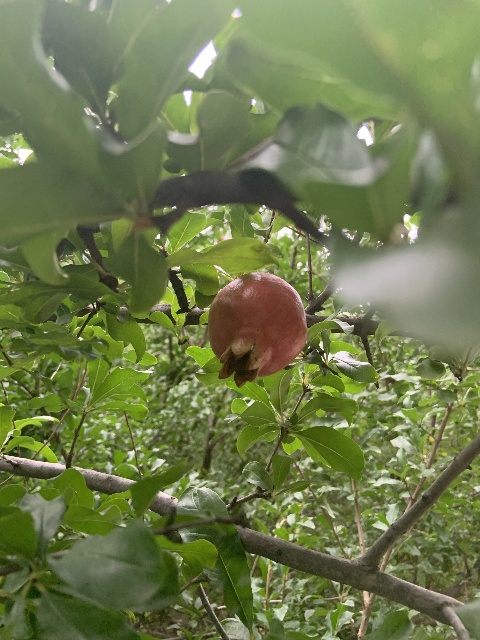ripe: (207, 272, 307, 387)
